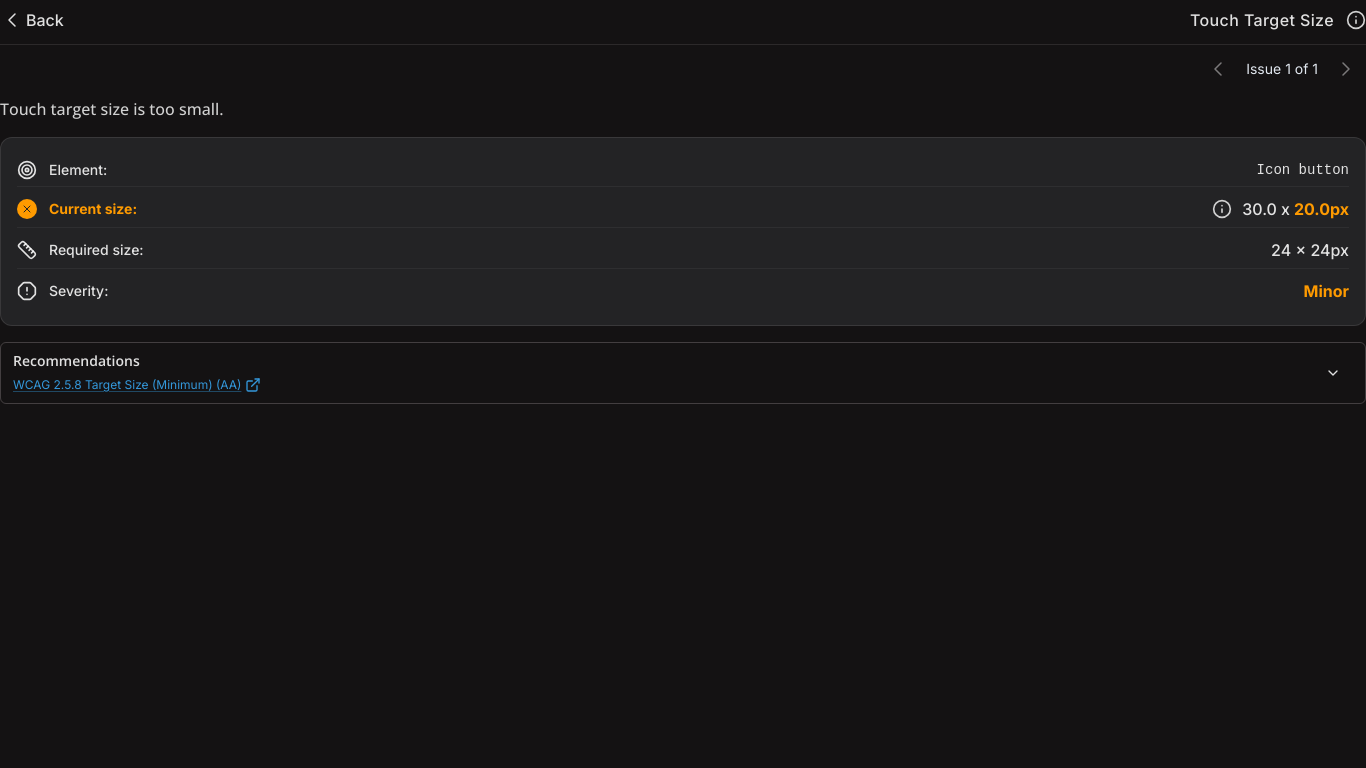
Test: TouchTargetNavigator › judges pass/fail and shows the tooltip against the actual detection-time size, not always 44px
Expected: the text "24 x 24px" is shown, [1271,238,1349,262]
What coordinates should you click on to do the following:
click the button named "More info"
I would click on:
 (1218, 209)
Its box is [1204,199,1232,219].
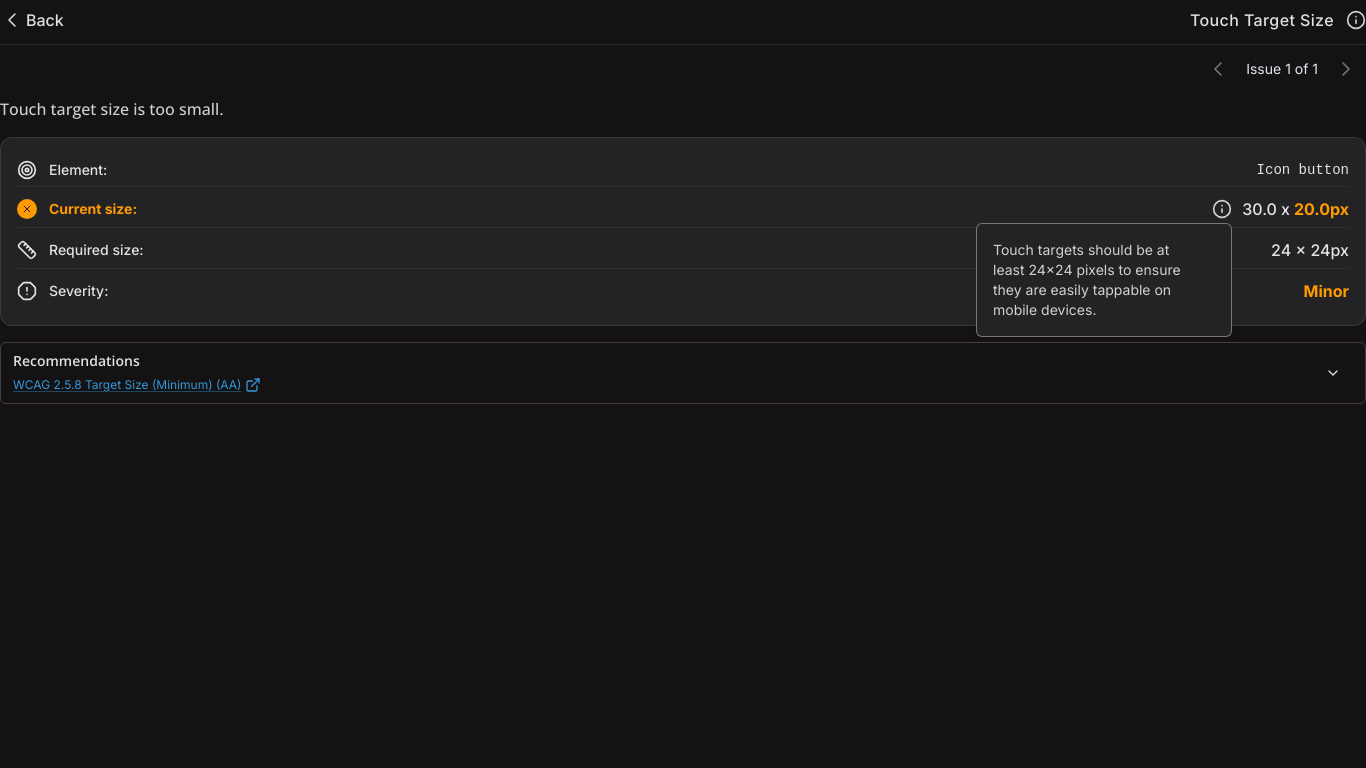
Expected: the text "Touch targets should be at least 24x24 pixels to ensure they are easily tappable on mobile devices." is shown, [993,241,1181,318]
